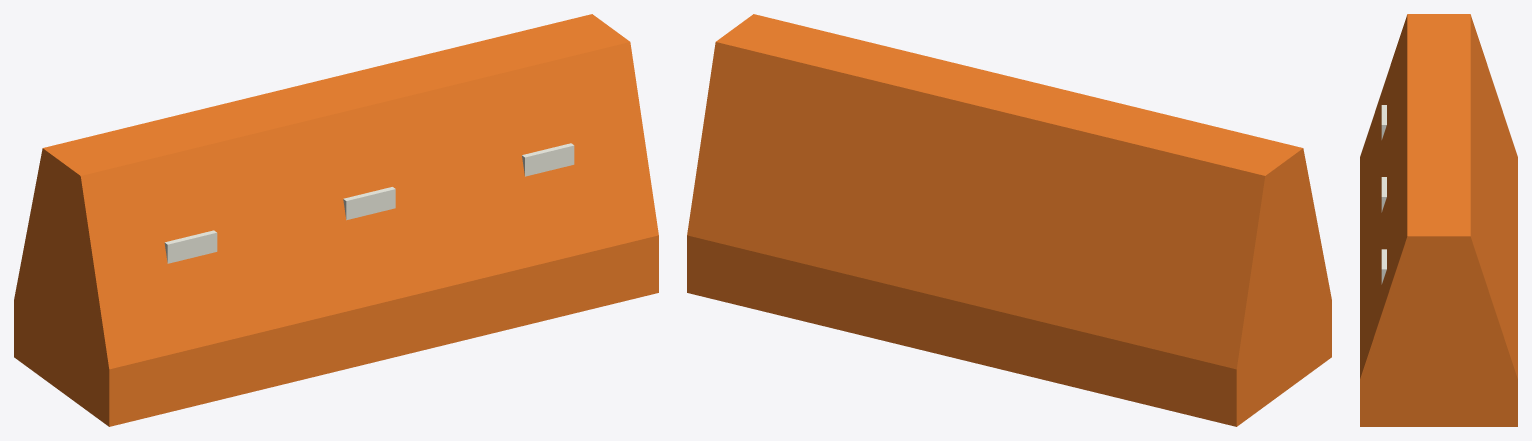
File: TR3_TemporaryBarrier_orange.glb
3 views of the same model, side by side, from view 1: azimuth 30°, elevation 25°; view 2: azimuth 150°, elevation 25°; view 3: azimuth 270°, elevation 25° (orthographic). The views are drawn at different scales.
Parts seen in each view (by area): view 1: TR3_TemporaryBarrier_orange; view 2: TR3_TemporaryBarrier_orange; view 3: TR3_TemporaryBarrier_orange.
Boxes of the visible parts, x1,y1,x2,y2 form: TR3_TemporaryBarrier_orange: (14, 14, 658, 426); TR3_TemporaryBarrier_orange: (687, 14, 1331, 426); TR3_TemporaryBarrier_orange: (1360, 14, 1517, 426).
Bounding box in the file's own units: 2 × 0.8 × 0.6.
